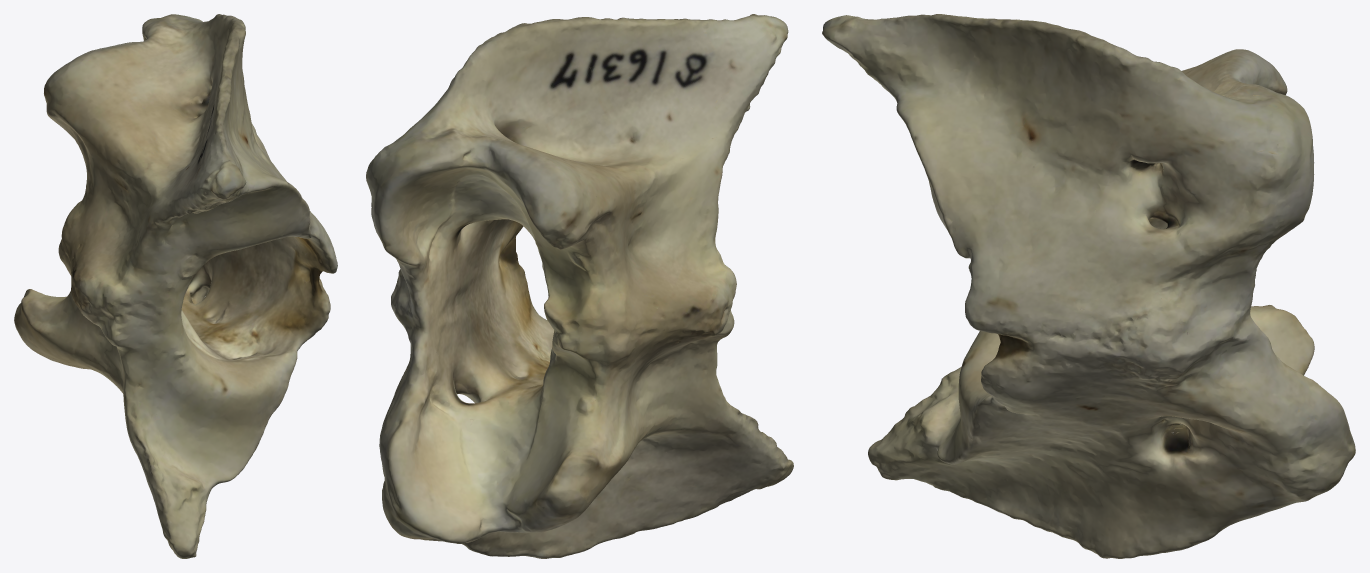
The picture shows the model from 3 angles, left to right: view 1: azimuth 30°, elevation 25°; view 2: azimuth 150°, elevation 25°; view 3: azimuth 270°, elevation 25°; orthographic projection. The views are drawn at different scales.
Parts seen in each view (by area): view 1: Node; view 2: Node; view 3: Node.
Boxes of the visible parts, x1=… form: Node: x1=14, y1=14, x2=337, y2=558; Node: x1=366, y1=14, x2=793, y2=558; Node: x1=822, y1=14, x2=1355, y2=558.
Size of the model in its own units: 37.03 by 65.54 by 58.38.
Materials: 1 (1 with a texture image).
